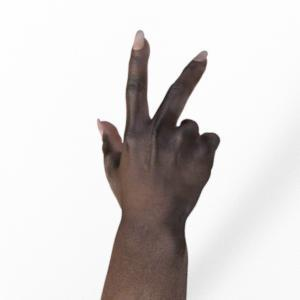scissors: (97, 30, 220, 300)
